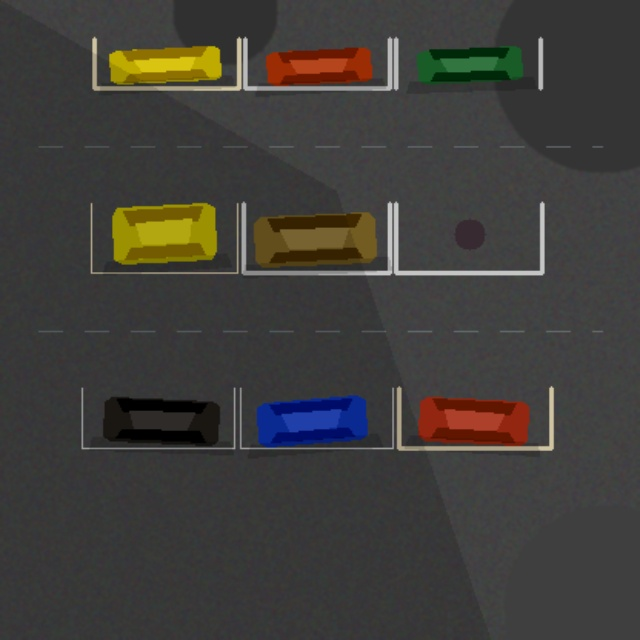space-empty: (395, 203, 542, 272)
space-occupied: (91, 203, 237, 272), (243, 203, 389, 272), (398, 388, 551, 448), (82, 388, 234, 448), (240, 388, 392, 448), (395, 38, 540, 88), (94, 38, 238, 88), (245, 38, 389, 88)
